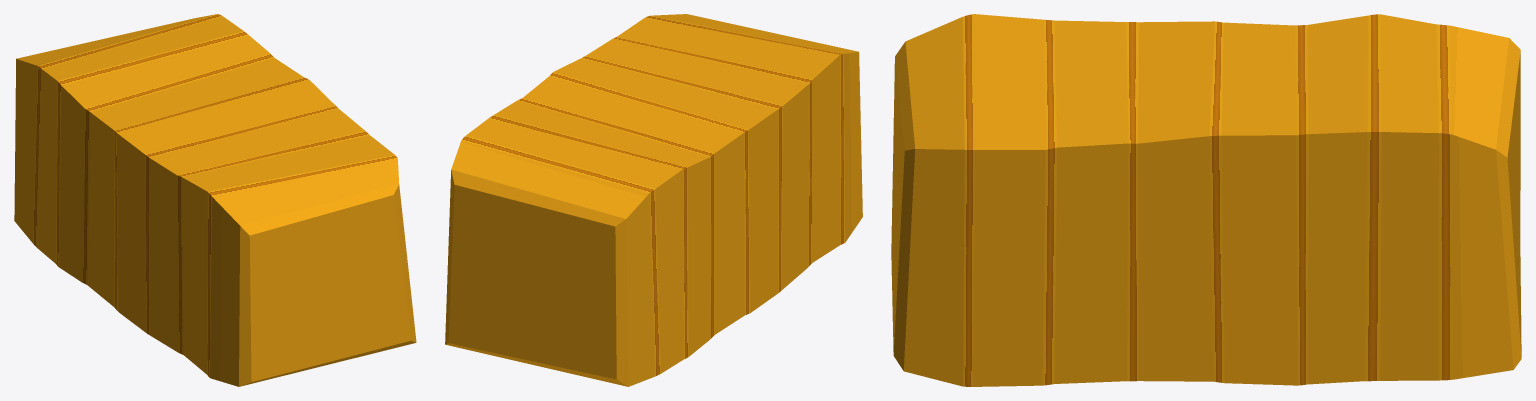
Rendered from BaleHey.glb.
The picture shows the model from 3 angles, left to right: view 1: azimuth 30°, elevation 25°; view 2: azimuth 150°, elevation 25°; view 3: azimuth 270°, elevation 25°; orthographic projection. The views are drawn at different scales.
Parts seen in each view (by area): view 1: BaleHey; view 2: BaleHey; view 3: BaleHey.
Part boxes in pixels (x1,y1,x2,y2): BaleHey: (14, 14, 416, 386); BaleHey: (445, 14, 862, 386); BaleHey: (891, 14, 1521, 386).
Bounding box in the file's own units: 0.3696 × 0.3487 × 0.782.
1 material, 1 textured.
